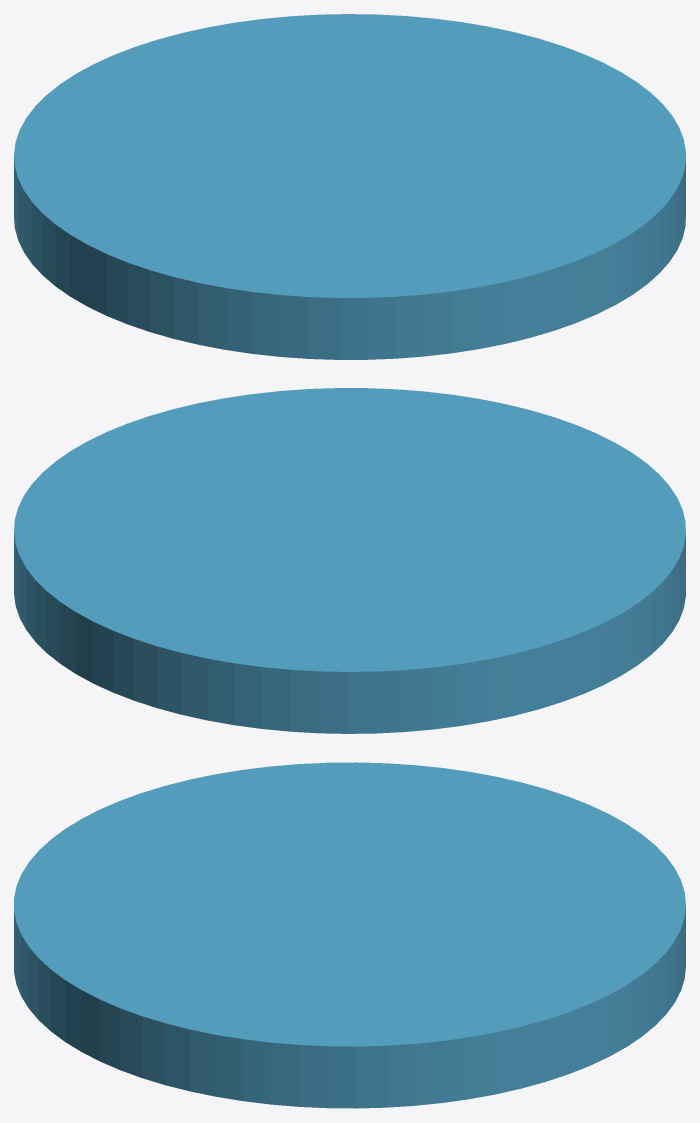
Rendered from floor_full.fbx.
3 renders of one model, top to bottom at view 1: azimuth 30°, elevation 25°; view 2: azimuth 150°, elevation 25°; view 3: azimuth 270°, elevation 25°, orthographic.
Visible parts, largest first — view 1: Cylinder; view 2: Cylinder; view 3: Cylinder.
Boxes of the visible parts, left/top/right/bottom form: Cylinder: left=14, top=14, right=685, bottom=359; Cylinder: left=14, top=388, right=685, bottom=733; Cylinder: left=14, top=762, right=685, bottom=1108.
Size of the model in its own units: 354 by 36 by 354.
